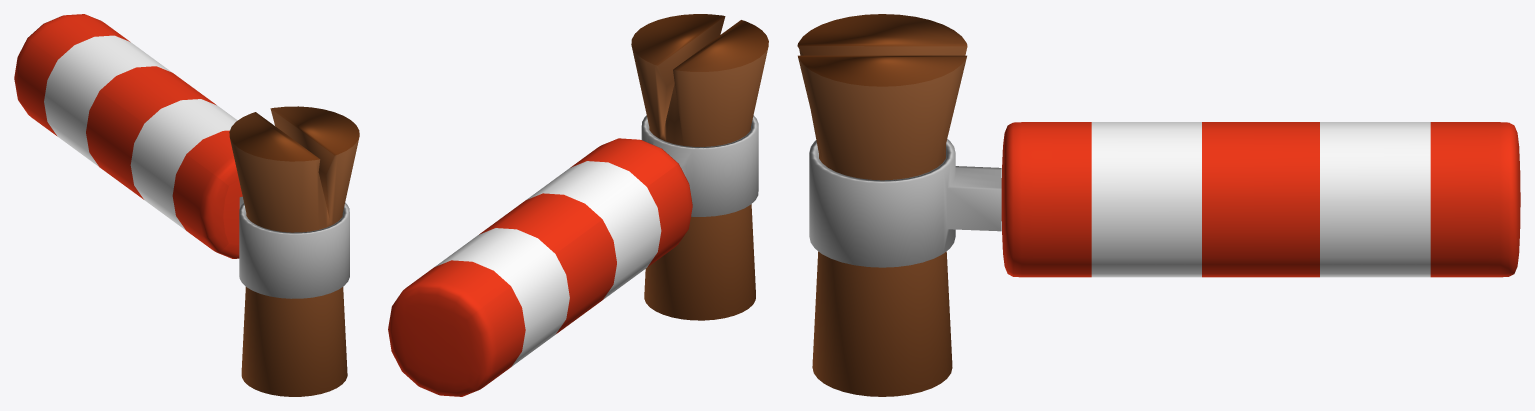
The model's file is trap_trapcirclered.glb.
3 views of the same model, side by side, from view 1: azimuth 30°, elevation 25°; view 2: azimuth 150°, elevation 25°; view 3: azimuth 270°, elevation 25° (orthographic). The views are drawn at different scales.
Visible parts, largest first — view 1: Cylinder.033_visual, Cylinder.032_visual; view 2: Cylinder.033_visual, Cylinder.032_visual; view 3: Cylinder.033_visual, Cylinder.032_visual.
Part boxes in pixels (<box>): Cylinder.033_visual: <box>14,14,349,298</box>; Cylinder.032_visual: <box>229,106,359,396</box>; Cylinder.033_visual: <box>388,115,758,396</box>; Cylinder.032_visual: <box>631,14,768,320</box>; Cylinder.033_visual: <box>809,122,1520,277</box>; Cylinder.032_visual: <box>797,14,967,396</box>.
Size of what is drawn, in the model's own units: 0.41 by 0.8222 by 1.7.
1 material, 1 textured.
